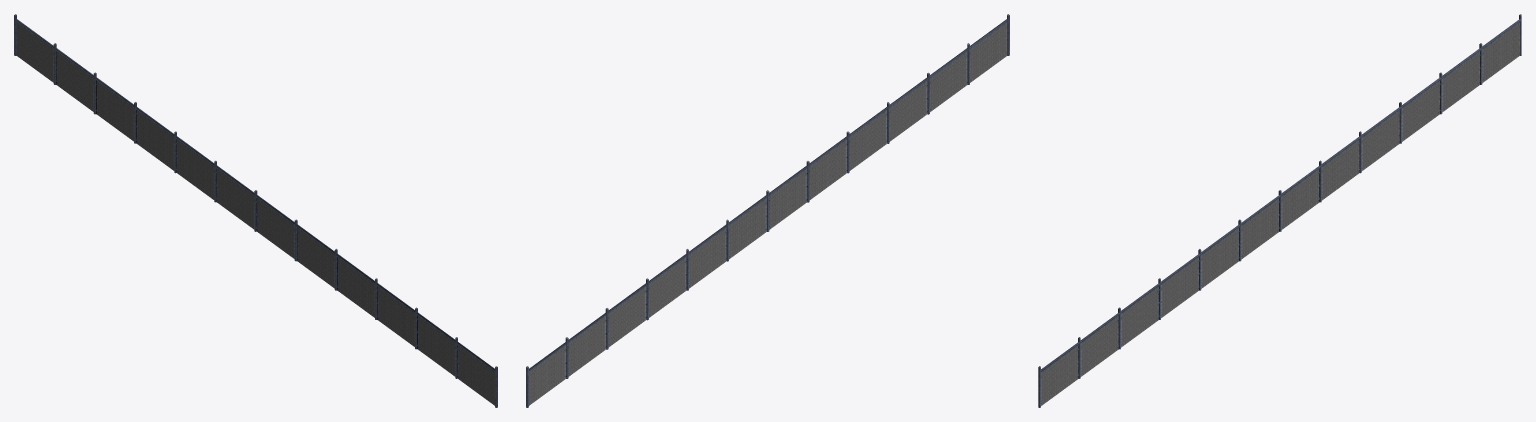
File: OPFC01.glb
The picture shows the model from 3 angles, left to right: view 1: azimuth 30°, elevation 25°; view 2: azimuth 150°, elevation 25°; view 3: azimuth 330°, elevation 25°; orthographic projection.
Parts seen in each view (by area): view 1: _OPFC01; view 2: _OPFC01; view 3: _OPFC01.
Boxes of the visible parts, bbox=[...] form: _OPFC01: bbox=[14, 14, 497, 407]; _OPFC01: bbox=[526, 14, 1009, 407]; _OPFC01: bbox=[1038, 14, 1521, 407].
Bounding box in the file's own units: 0.0724 × 1.18 × 24.86.
Materials: 2 (2 with a texture image).
